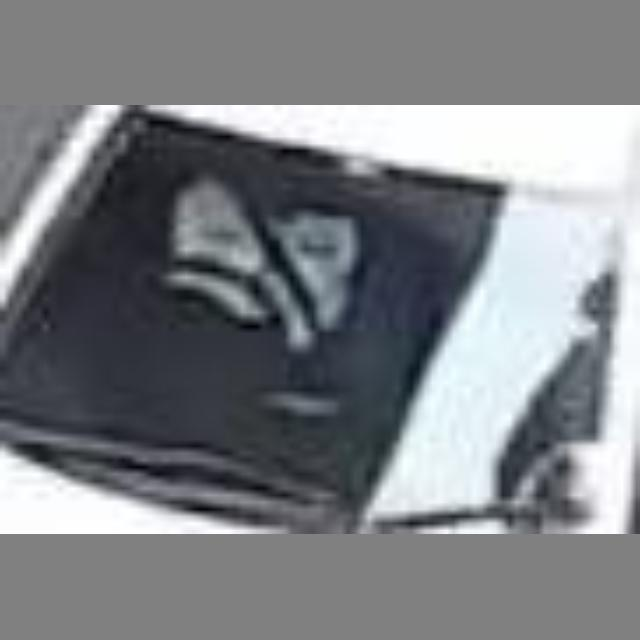pakai: (155, 154, 373, 400)
